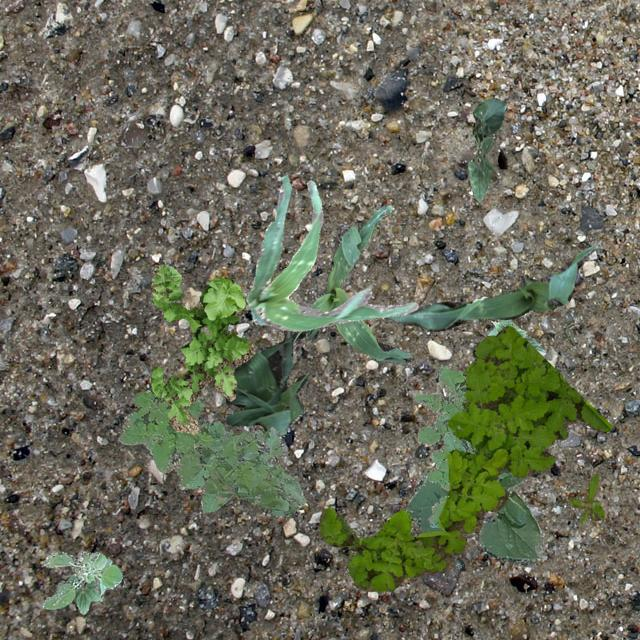crop: (244, 174, 416, 330), (384, 240, 600, 330), (292, 204, 410, 362), (406, 468, 542, 562), (224, 328, 308, 436), (466, 96, 506, 200), (66, 558, 110, 612), (487, 318, 545, 354)
weed: (318, 326, 610, 590), (118, 390, 304, 514), (150, 262, 256, 432), (412, 366, 476, 526), (41, 550, 120, 608), (568, 472, 604, 522)
